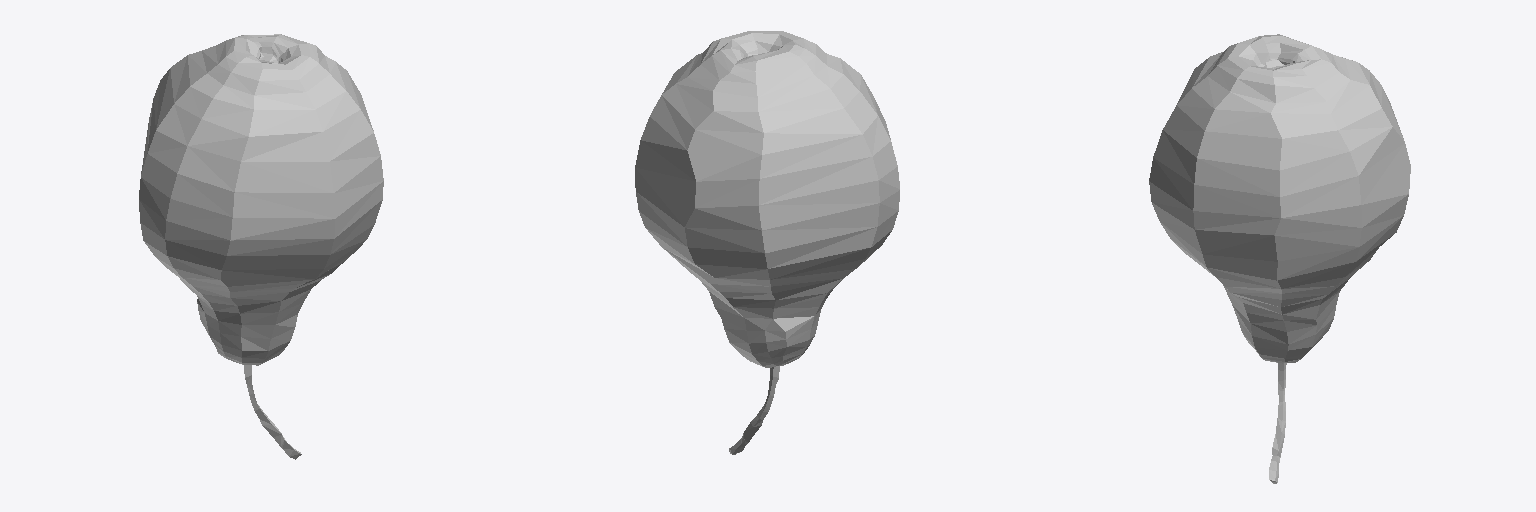
Rendered from fruit.obj.
The picture shows the model from 3 angles: view 1: azimuth 30°, elevation 25°; view 2: azimuth 150°, elevation 25°; view 3: azimuth 270°, elevation 25°; orthographic projection.
Parts seen in each view (by area): view 1: pear_export:Mesh; view 2: pear_export:Mesh; view 3: pear_export:Mesh.
Boxes of the visible parts, <box> form: pear_export:Mesh: <box>139,34,383,459</box>; pear_export:Mesh: <box>635,31,899,454</box>; pear_export:Mesh: <box>1149,34,1410,483</box>.
Size of the model in its own units: 4.41 by 7.72 by 4.37.